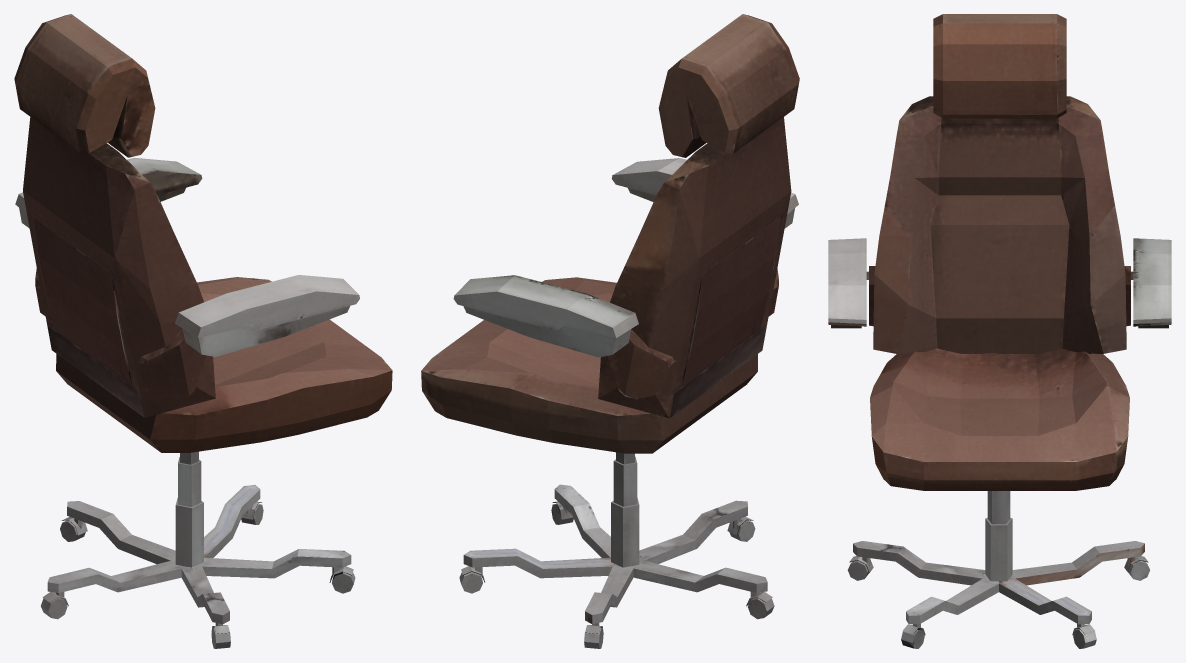
3 views of the same model, side by side, from view 1: azimuth 30°, elevation 25°; view 2: azimuth 150°, elevation 25°; view 3: azimuth 270°, elevation 25° (orthographic). The views are drawn at different scales.
Visible parts, largest first — view 1: Node; view 2: Node; view 3: Node.
Boxes of the visible parts, box(x1,y1,x2,y2) form: Node: box(14, 14, 392, 648); Node: box(421, 14, 799, 648); Node: box(828, 14, 1171, 648).
Bounding box in the file's own units: 0.3832 × 0.7 × 0.4073.
1 material, 1 textured.
